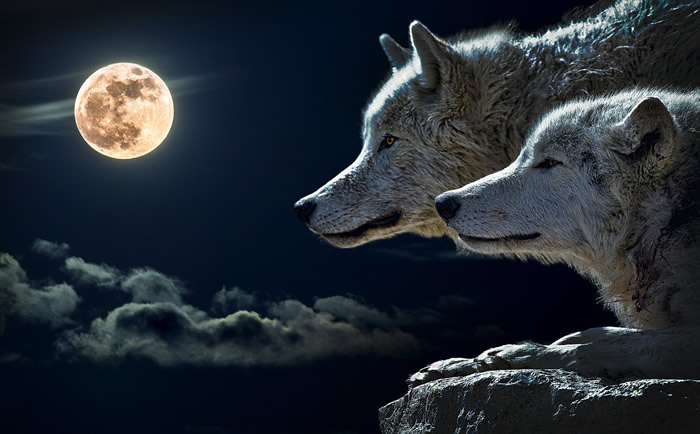Lobo: (435, 81, 693, 316), (268, 20, 491, 262)
